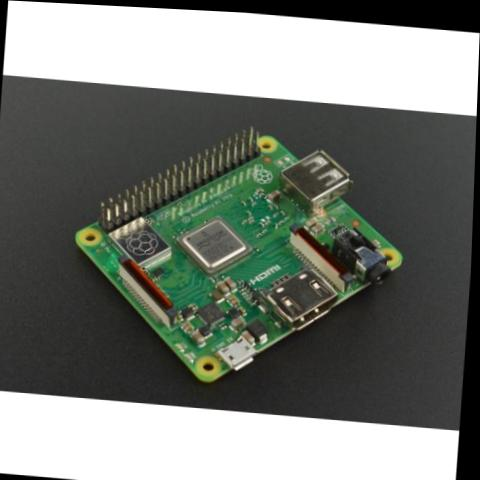Raspberry-Pi-3-Model-A-: (62, 105, 418, 403)
